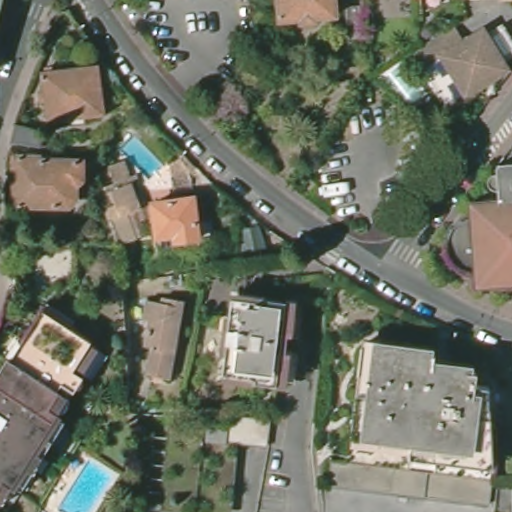pool: (49, 453, 120, 508), (115, 132, 169, 183)
